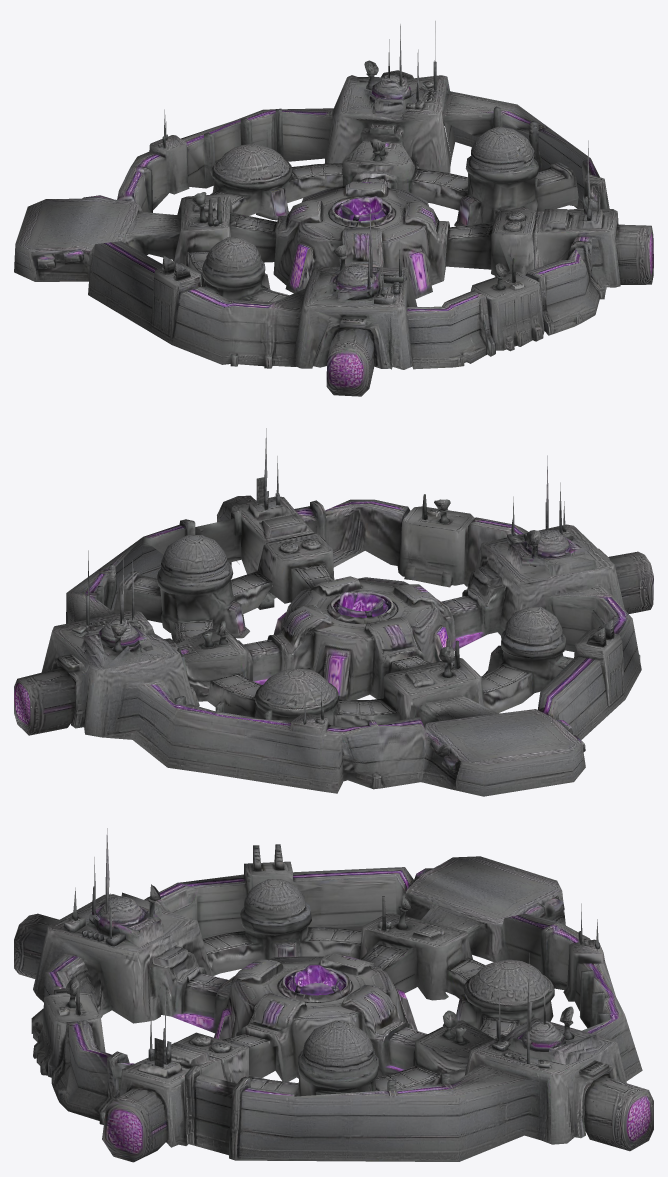
The model's file is selected.glb.
The picture shows the model from 3 angles, top to bottom: view 1: azimuth 30°, elevation 25°; view 2: azimuth 150°, elevation 25°; view 3: azimuth 270°, elevation 25°; orthographic projection. The views are drawn at different scales.
Parts seen in each view (by area): view 1: tripo_node_9e4b216f-d2a6-401d-bae9-d7086a40b93f; view 2: tripo_node_9e4b216f-d2a6-401d-bae9-d7086a40b93f; view 3: tripo_node_9e4b216f-d2a6-401d-bae9-d7086a40b93f.
Boxes of the visible parts, <box> form: tripo_node_9e4b216f-d2a6-401d-bae9-d7086a40b93f: <box>14,21,653,396</box>; tripo_node_9e4b216f-d2a6-401d-bae9-d7086a40b93f: <box>14,428,653,796</box>; tripo_node_9e4b216f-d2a6-401d-bae9-d7086a40b93f: <box>14,828,653,1162</box>.
Bounding box in the file's own units: 0.998 × 0.3066 × 0.9941.
Materials: 1 (1 with a texture image).
